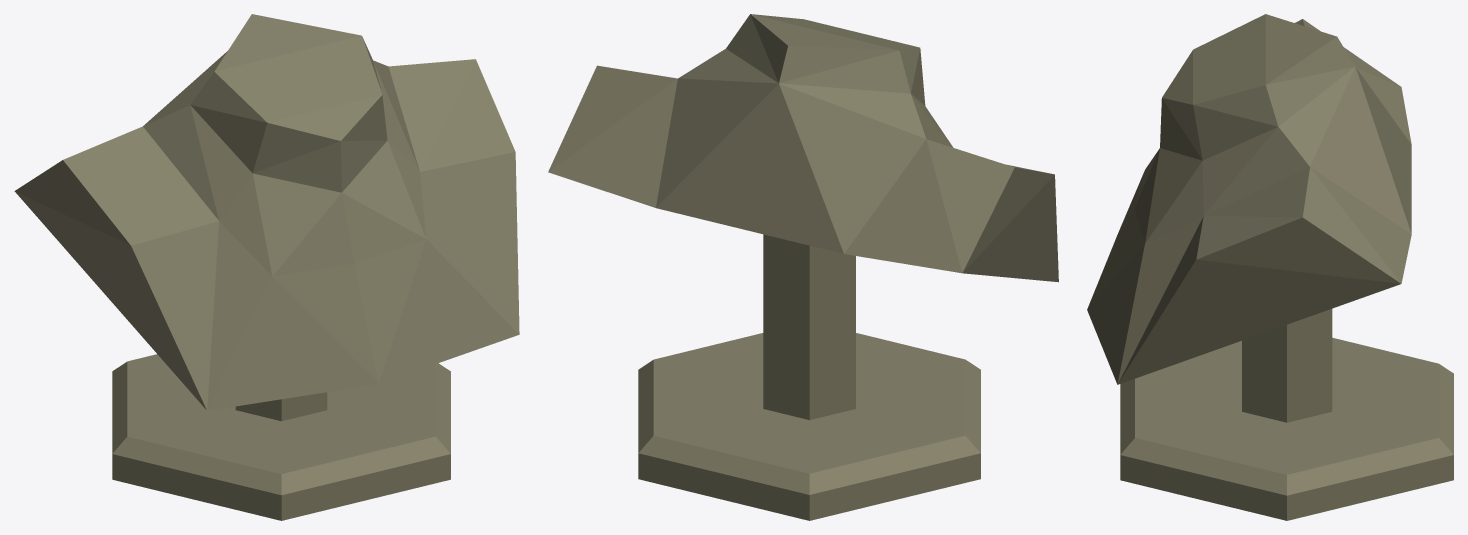
The model's file is WM_Mannequin.fbx.
3 renders of one model, left to right at view 1: azimuth 30°, elevation 25°; view 2: azimuth 150°, elevation 25°; view 3: azimuth 270°, elevation 25°, orthographic. The views are drawn at different scales.
Visible parts, largest first — view 1: Cylinder_5; view 2: Cylinder_5; view 3: Cylinder_5.
Part boxes in pixels (box(x1,y1,x2,y2)): Cylinder_5: box(14, 14, 519, 520); Cylinder_5: box(548, 14, 1058, 520); Cylinder_5: box(1087, 14, 1453, 520).
Bounding box in the file's own units: 4.06 × 3.82 × 3.17.
